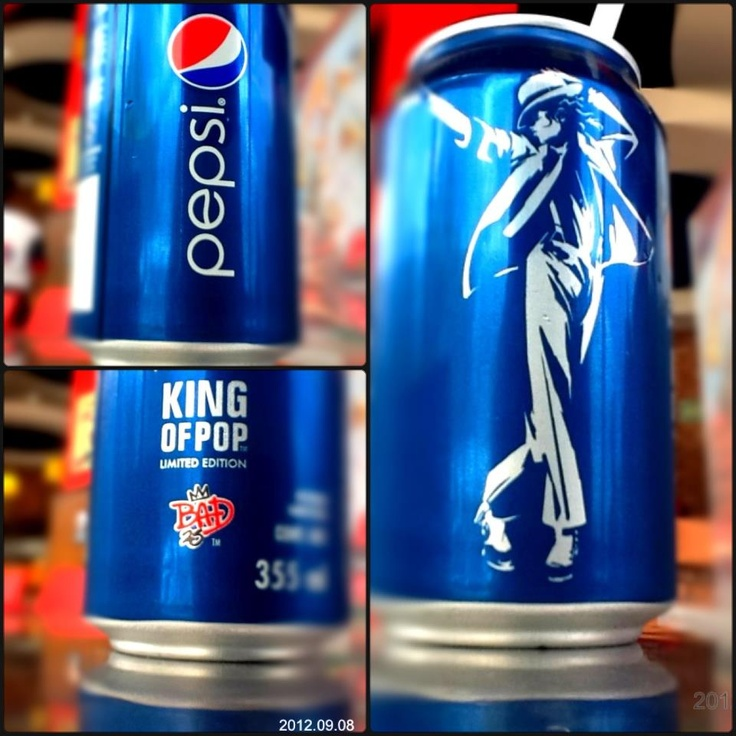can: (375, 12, 682, 666)
